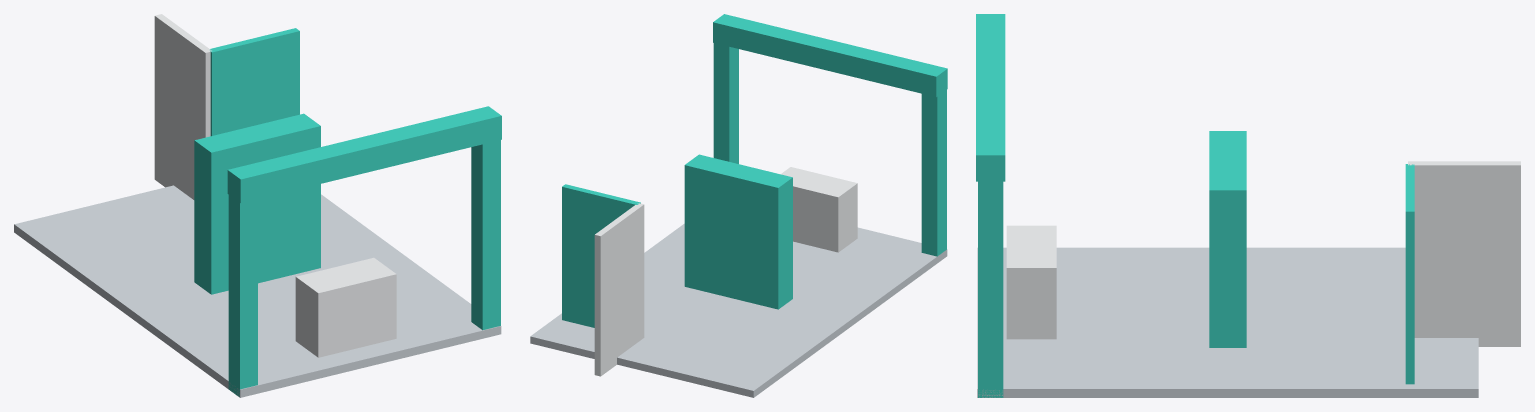
3 views of the same model, side by side, from view 1: azimuth 30°, elevation 25°; view 2: azimuth 150°, elevation 25°; view 3: azimuth 270°, elevation 25° (orthographic). The views are drawn at different scales.
Parts seen in each view (by area): view 1: Exhibition Booth Concept; view 2: Exhibition Booth Concept; view 3: Exhibition Booth Concept.
Part boxes in pixels (left/top/right/bottom): Exhibition Booth Concept: left=14, top=14, right=501, bottom=397; Exhibition Booth Concept: left=530, top=14, right=947, bottom=397; Exhibition Booth Concept: left=976, top=14, right=1520, bottom=397.
Bounding box in the file's own units: 4 × 3.2 × 6.52.
